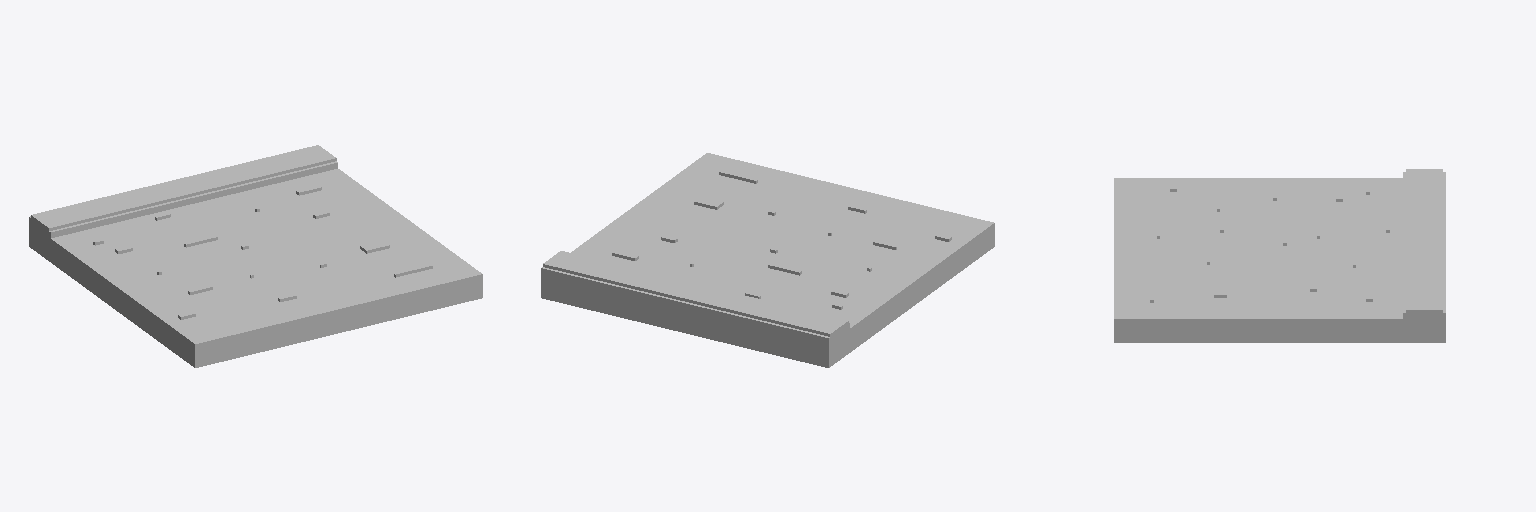
File: Grass.obj
3 views of the same model, side by side, from view 1: azimuth 30°, elevation 25°; view 2: azimuth 150°, elevation 25°; view 3: azimuth 270°, elevation 25° (orthographic).
Visible parts, largest first — view 1: Grass; view 2: Grass; view 3: Grass.
Boxes of the visible parts, x1,y1,x2,y2 form: Grass: [29, 145, 482, 367]; Grass: [541, 153, 994, 367]; Grass: [1114, 169, 1445, 342].
Bounding box in the file's own units: 100 × 11 × 100.